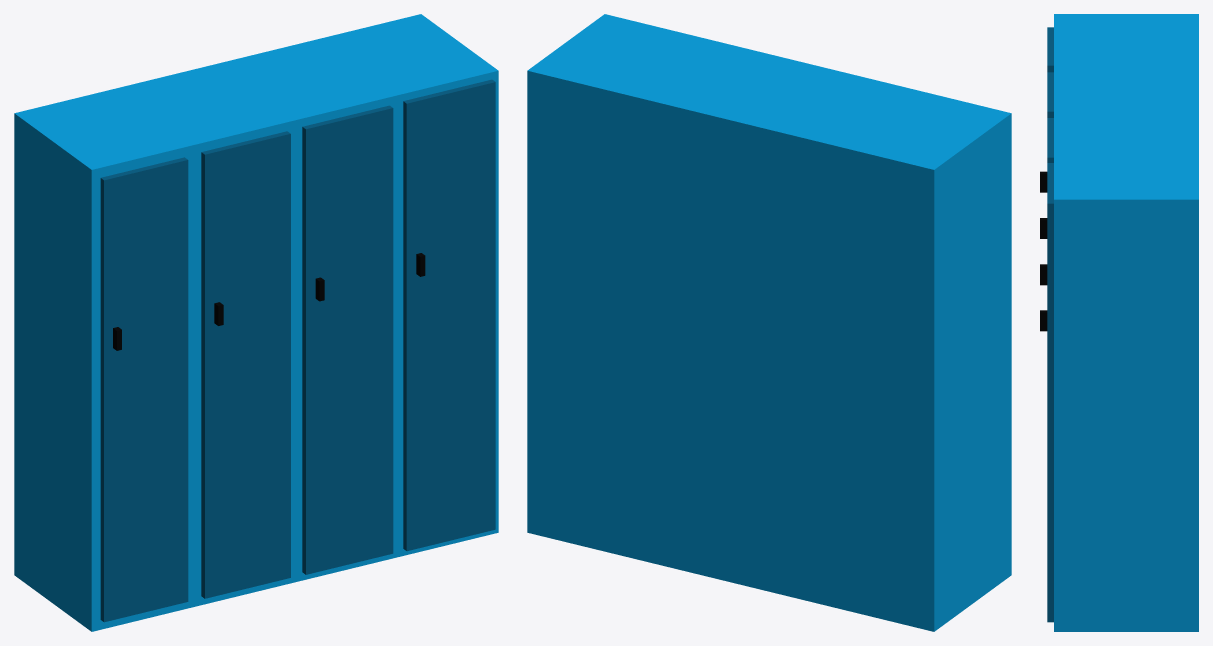
File: BLUE_Locker.fbx
3 renders of one model, left to right at view 1: azimuth 30°, elevation 25°; view 2: azimuth 150°, elevation 25°; view 3: azimuth 270°, elevation 25°, orthographic. The views are drawn at different scales.
Parts seen in each view (by area): view 1: Locker, Knobs; view 2: Locker; view 3: Locker, Knobs.
Part boxes in pixels (<box>): Locker: <box>14,14,498,631</box>; Knobs: <box>113,253,425,350</box>; Locker: <box>527,14,1011,631</box>; Locker: <box>1047,14,1198,631</box>; Knobs: <box>1040,171,1047,331</box>.
Bounding box in the file's own units: 607 × 658 × 219.
